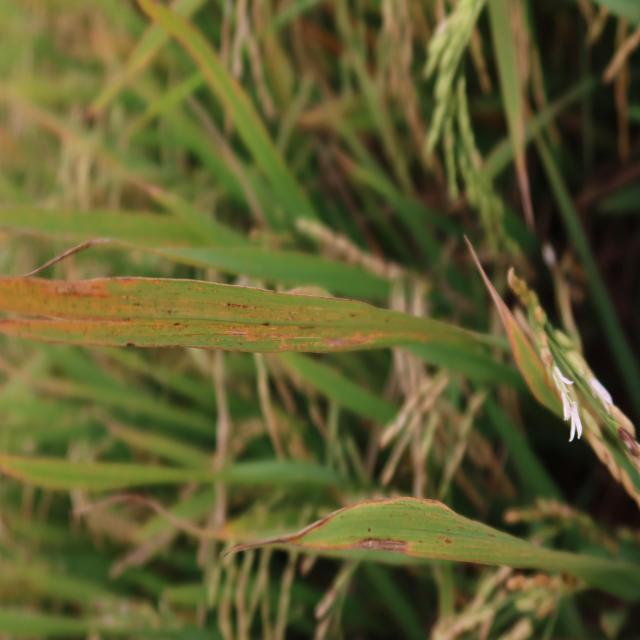Dom soc vi khuan: (213, 323, 427, 351), (21, 292, 151, 317), (49, 320, 199, 338), (208, 302, 309, 322)
